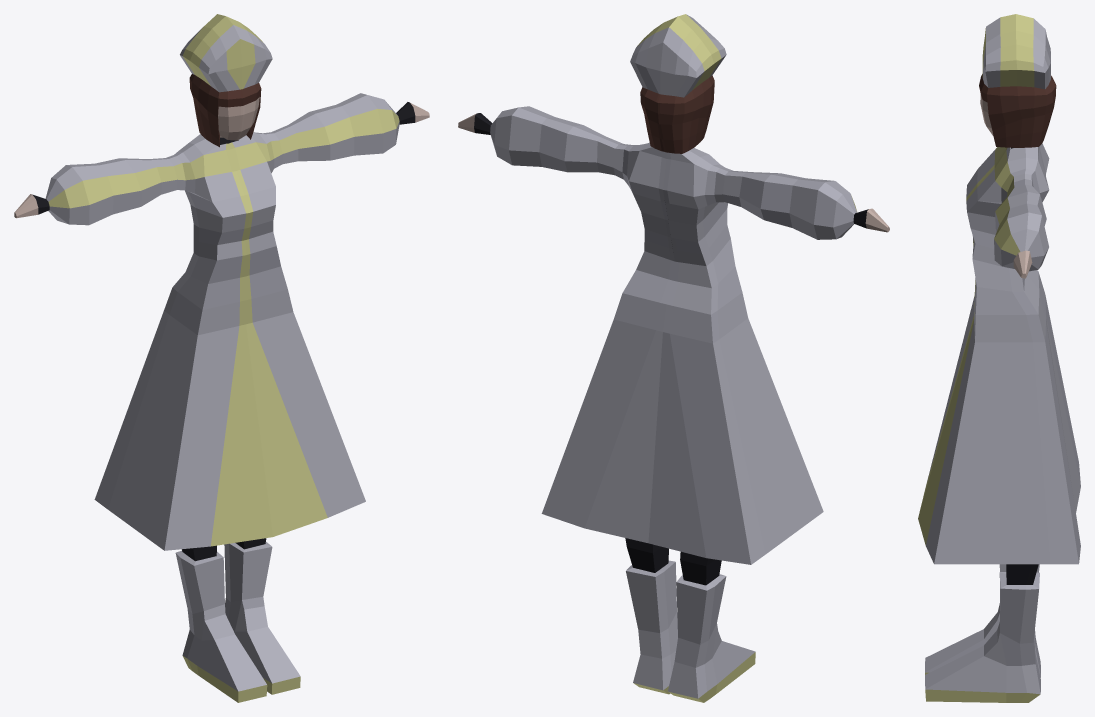
File: MODEL_Cleric.fbx
3 views of the same model, side by side, from view 1: azimuth 30°, elevation 25°; view 2: azimuth 150°, elevation 25°; view 3: azimuth 270°, elevation 25° (orthographic). The views are drawn at different scales.
Visible parts, largest first — view 1: ClericDress, ClericBoots, ClericHat, ClericBody, ClericHair; view 2: ClericDress, ClericBoots, ClericHat, ClericHair, ClericBody; view 3: ClericDress, ClericBoots, ClericHat, ClericHair, ClericBody.
Boxes of the visible parts, x1=… form: ClericDress: x1=45, y1=93, x2=399, y2=550; ClericBoots: x1=175, y1=542, x2=300, y2=702; ClericHat: x1=180, y1=14, x2=272, y2=92; ClericBody: x1=14, y1=97, x2=429, y2=561; ClericHair: x1=189, y1=74, x2=261, y2=147; ClericDress: x1=490, y1=106, x2=857, y2=564; ClericBoots: x1=626, y1=560, x2=755, y2=702; ClericHat: x1=630, y1=14, x2=726, y2=97; ClericHair: x1=640, y1=75, x2=714, y2=153; ClericBody: x1=458, y1=113, x2=889, y2=585; ClericDress: x1=918, y1=143, x2=1080, y2=564; ClericBoots: x1=925, y1=564, x2=1040, y2=702; ClericHat: x1=982, y1=14, x2=1050, y2=89; ClericHair: x1=979, y1=74, x2=1056, y2=147; ClericBody: x1=980, y1=95, x2=1038, y2=584.
Bounding box in the file's own units: 1632 × 2448 × 537.
Materials: 1 (1 with a texture image).
